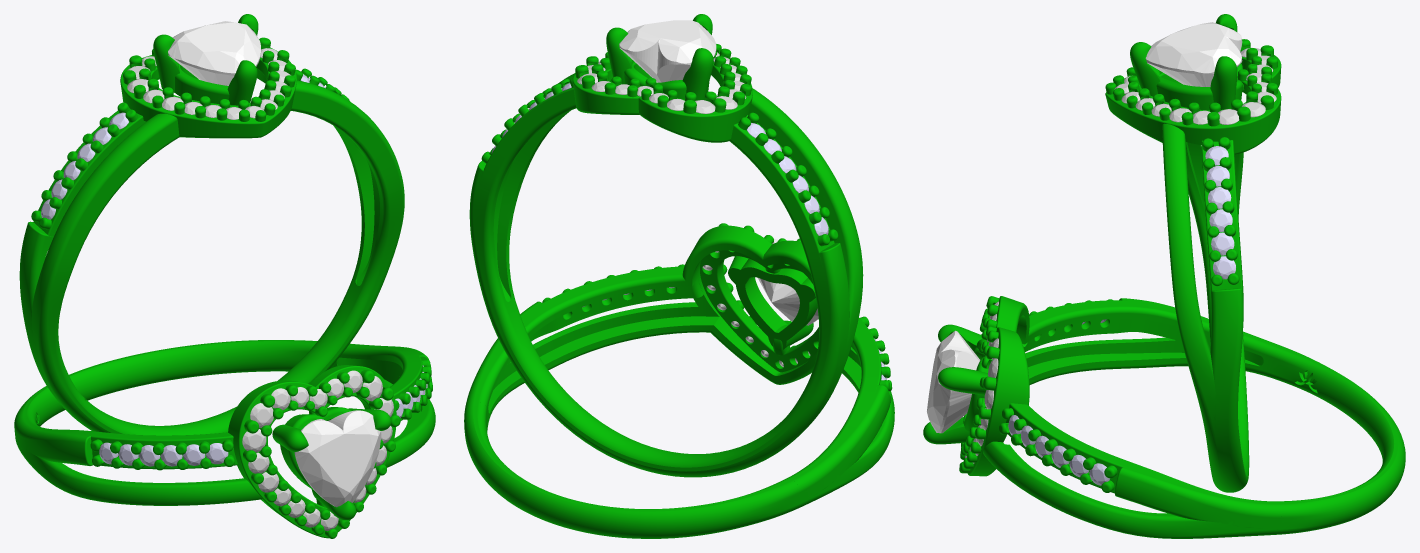
3 views of the same model, side by side, from view 1: azimuth 30°, elevation 25°; view 2: azimuth 150°, elevation 25°; view 3: azimuth 270°, elevation 25° (orthographic). The views are drawn at different scales.
Parts seen in each view (by area): view 1: RNG-2508100_3D.3dm; view 2: RNG-2508100_3D.3dm; view 3: RNG-2508100_3D.3dm.
Boxes of the visible parts, x1,y1,x2,y2 form: RNG-2508100_3D.3dm: [14, 14, 435, 538]; RNG-2508100_3D.3dm: [464, 14, 894, 538]; RNG-2508100_3D.3dm: [923, 14, 1405, 538].
Size of the model in its own units: 2.15 by 2.39 by 2.38.
